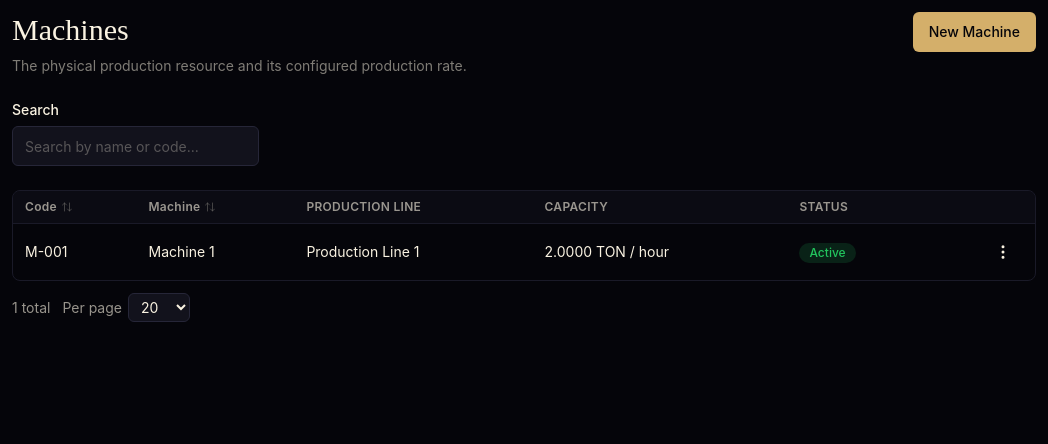
Test case: MachinesPage › rejects a non-positive capacity inline before submitting
The width and height of the screenshot is (1048, 444).
Expected: the text "Machine 1" is shown, [136, 224, 294, 280]
Click the button "New Machine" at {"x": 974, "y": 32}, box [913, 12, 1036, 52]
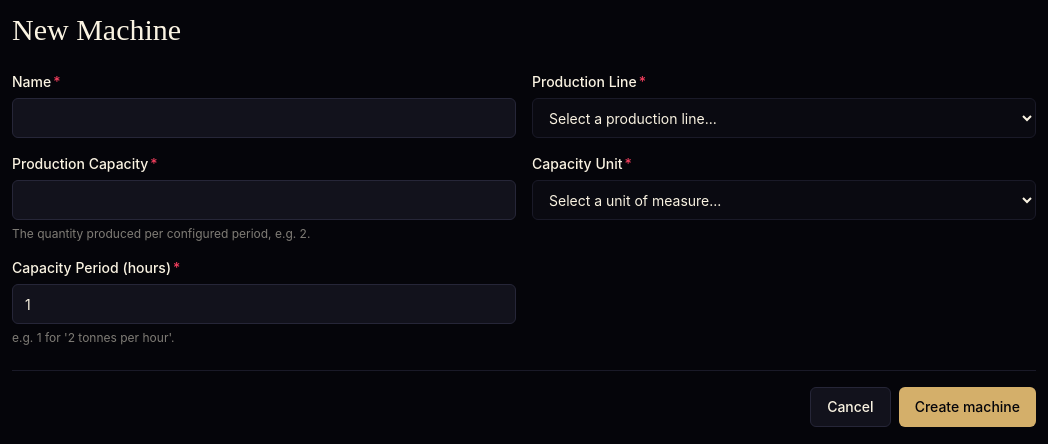
Type "Machine 2" into the field labelled "Name" at {"x": 264, "y": 118}, box [12, 98, 516, 138]
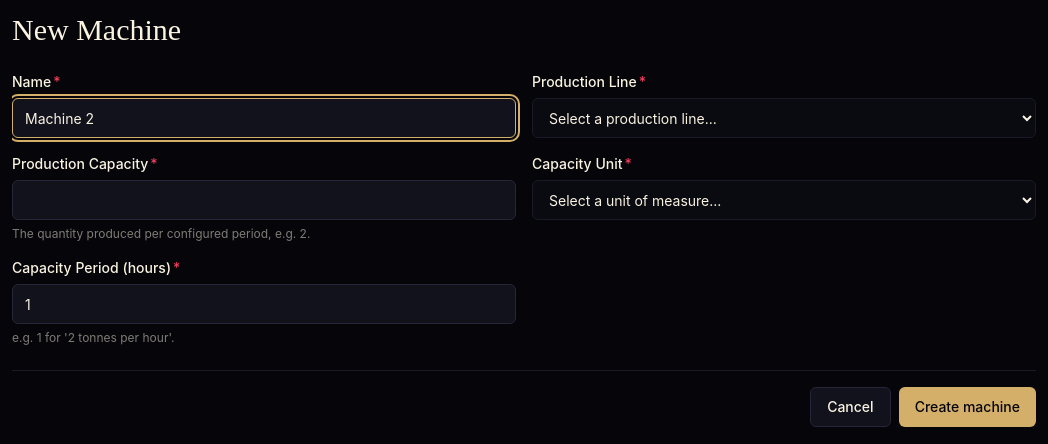
Select "Production Line 1" in the dropdown labelled "Production Line" at {"x": 784, "y": 118}, box [532, 98, 1036, 138]
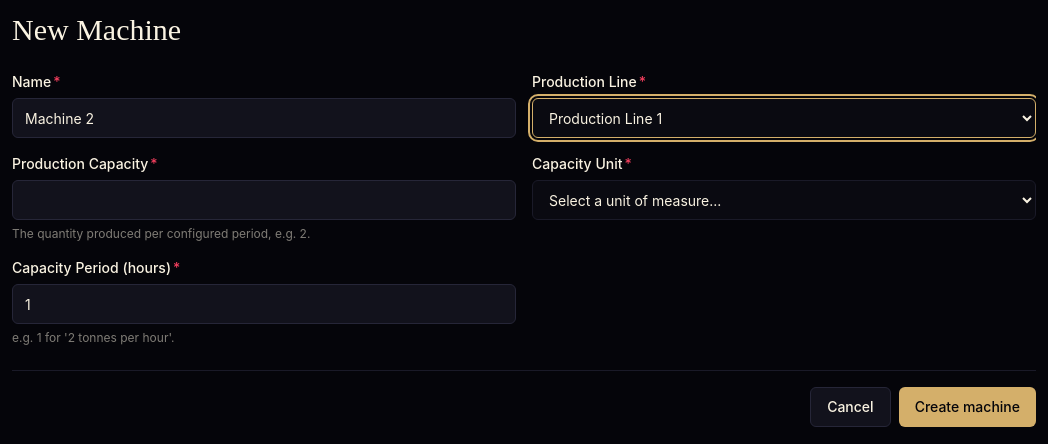
Type "0" into the field labelled "Production Capacity" at {"x": 264, "y": 200}, box [12, 180, 516, 220]
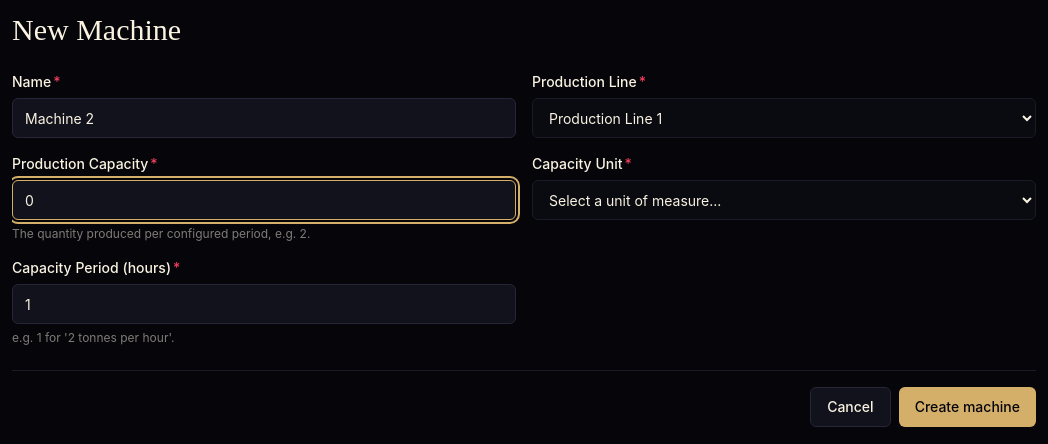
Select "Ton (TON)" in the dropdown labelled "Capacity Unit" at {"x": 784, "y": 200}, box [532, 180, 1036, 220]
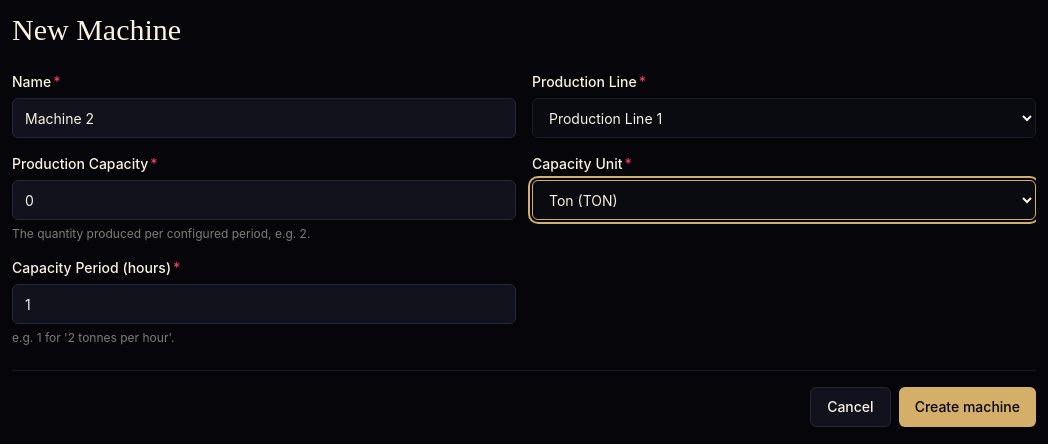
Click the button "Create machine" at {"x": 967, "y": 407}, box [899, 387, 1036, 427]
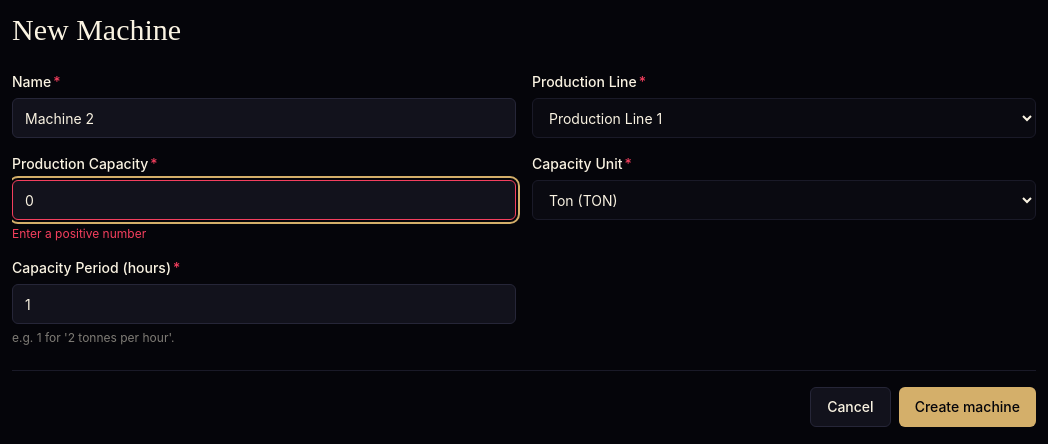
Expected: the text "Enter a positive number" is shown, [12, 226, 146, 241]
